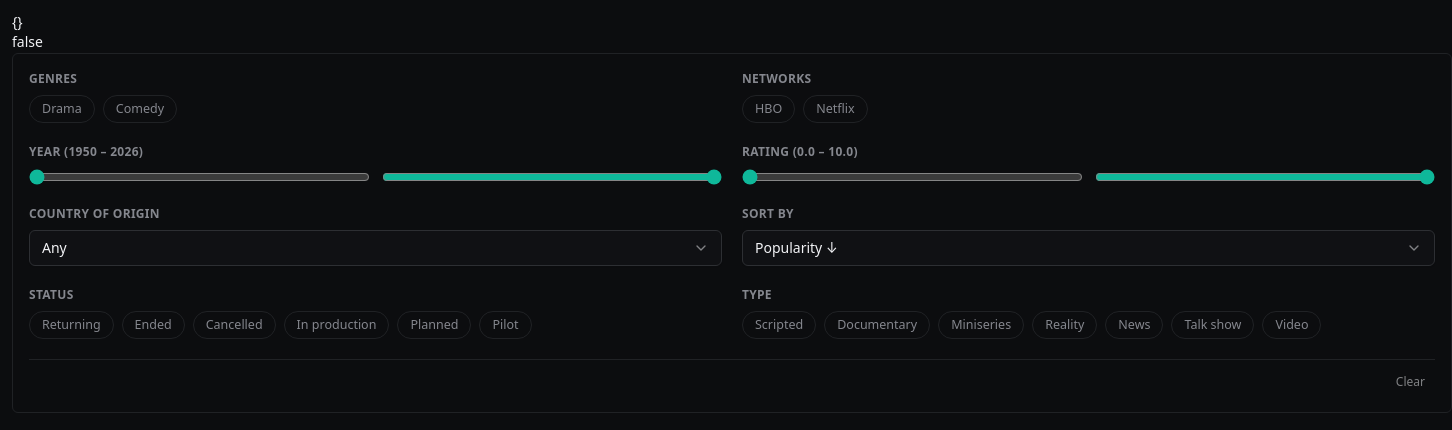
Test: <FilteredPanel /> › clicking a genre chip toggles it into the filter
Click the button "Drama".
click(62, 109)  # box [29, 95, 95, 123]
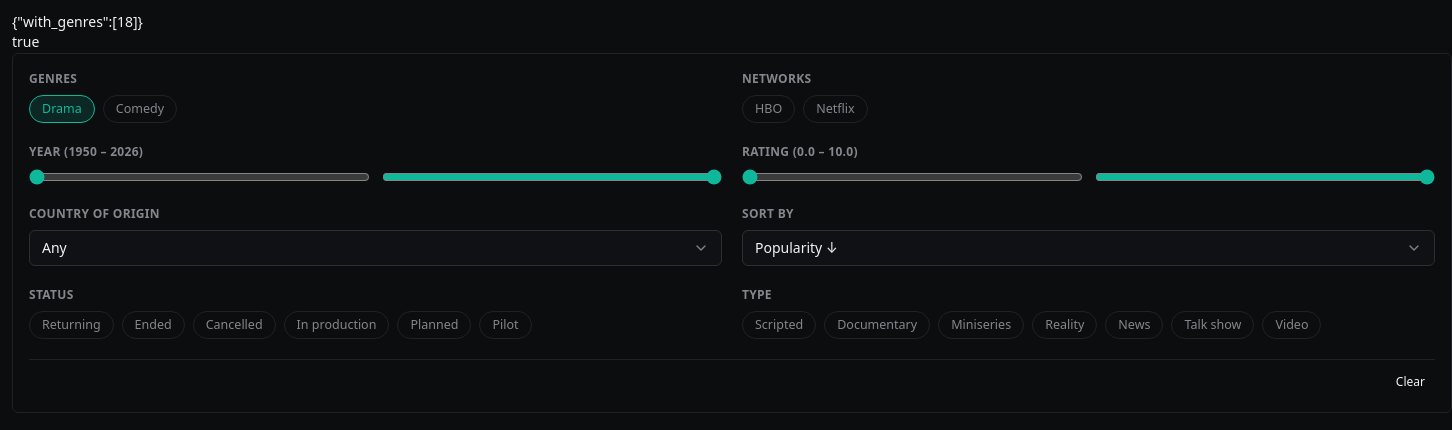
Check: the text with test id "has-active" reads "true", box [12, 32, 39, 51]
# Click again — toggles off.
Click the button "Drama".
click(62, 109)  # box [29, 95, 95, 123]
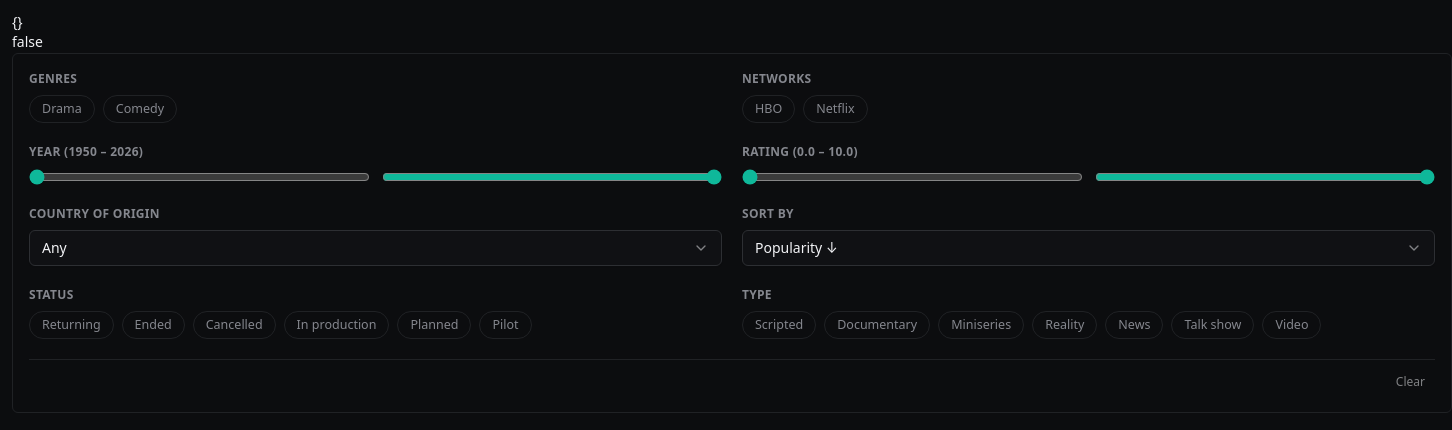
Check: the text with test id "has-active" reads "false", box [12, 32, 43, 51]
